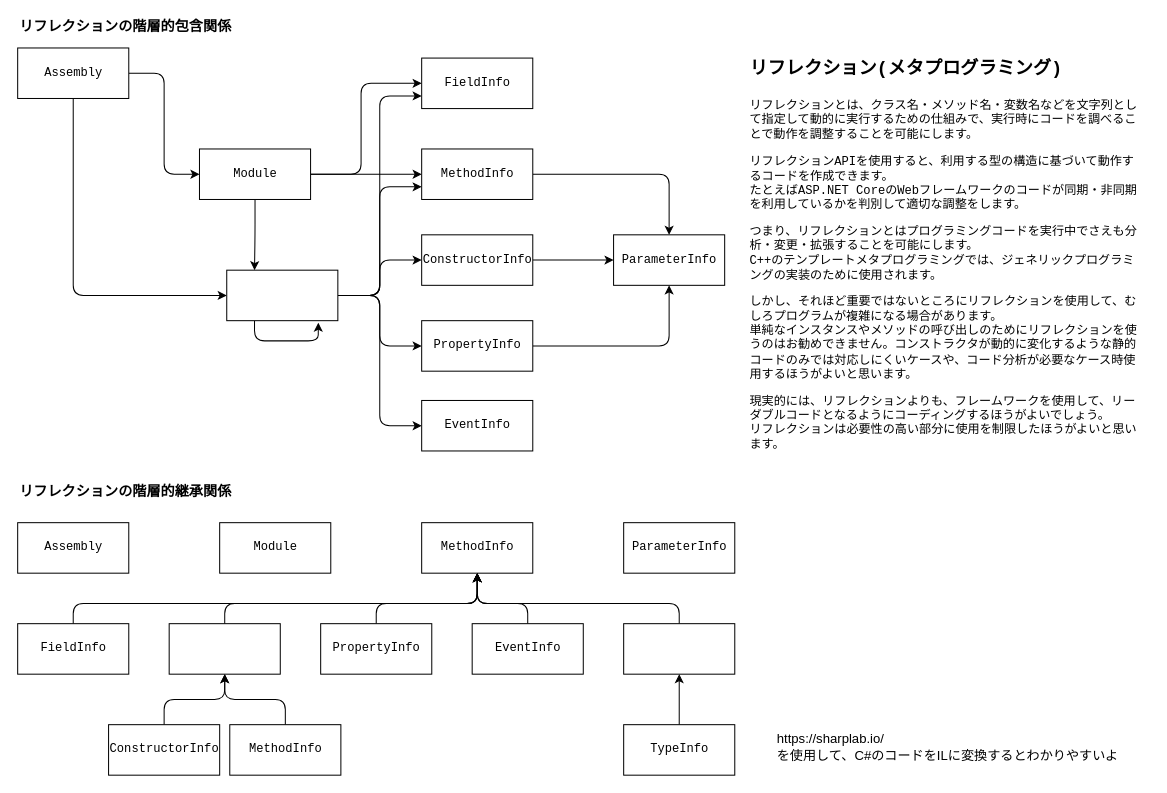
The diagram is 1167 pixels wide and 793 high, and some of its shapes have lost their labels. Each missing label, with the box of its shape:
MethodBase: (168, 623, 280, 674)
Type: (623, 623, 735, 674)
Type/TypeInfo: (226, 269, 338, 321)
